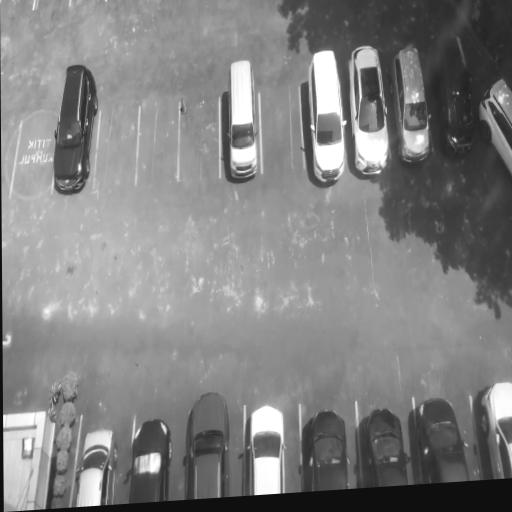Car: (302, 47, 352, 187), (49, 64, 102, 193), (432, 28, 483, 161), (344, 43, 393, 179), (389, 40, 436, 168), (416, 392, 472, 484), (225, 56, 262, 181), (187, 394, 229, 499), (361, 406, 411, 487), (302, 408, 351, 490), (475, 74, 512, 179), (128, 415, 172, 503), (473, 380, 512, 479), (72, 425, 119, 505), (248, 406, 287, 496)
Space Available: (260, 86, 305, 174), (135, 103, 180, 183), (93, 109, 137, 187), (179, 98, 221, 177), (11, 125, 55, 195)
